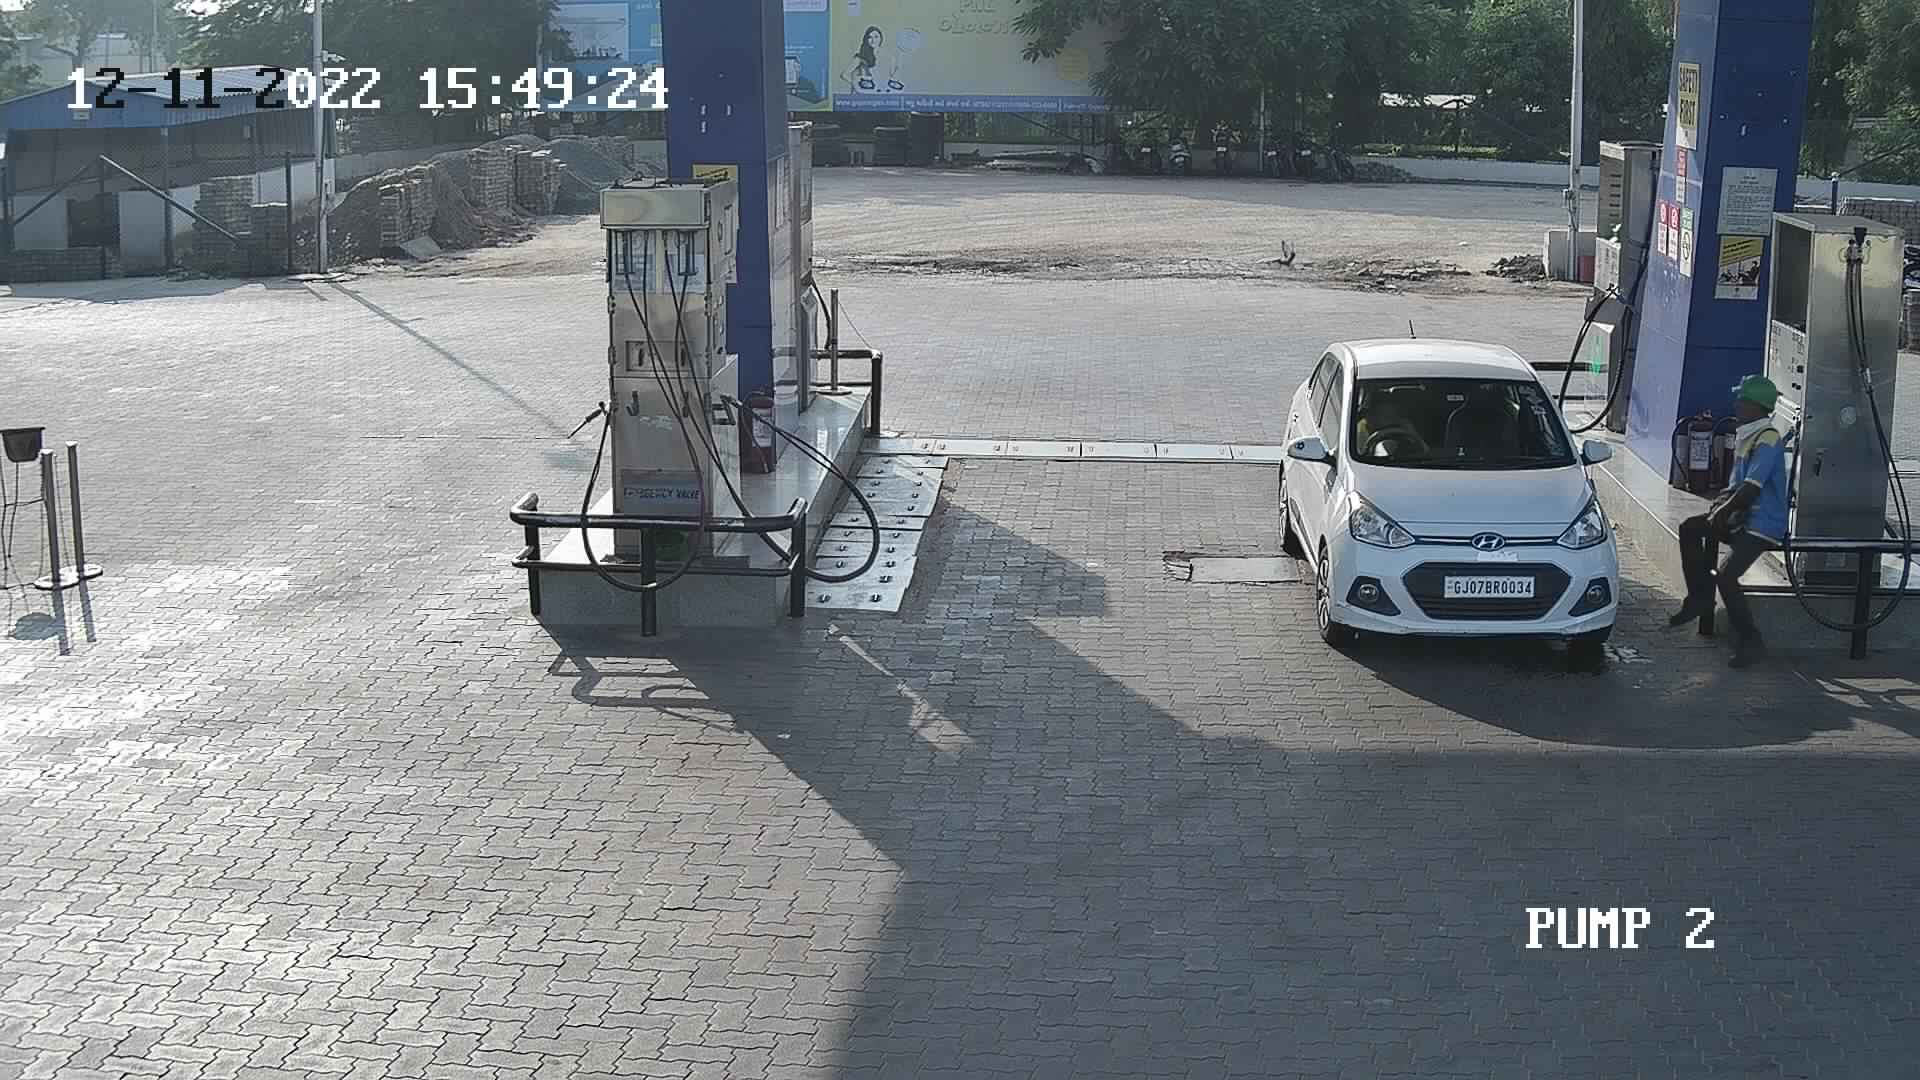Bike: (1302, 113, 1365, 181), (1195, 109, 1251, 182), (1120, 107, 1172, 177), (1251, 113, 1295, 191), (1159, 111, 1204, 185), (1284, 107, 1327, 182)
Car: (1267, 330, 1633, 655)
Others: (1655, 367, 1796, 676)
